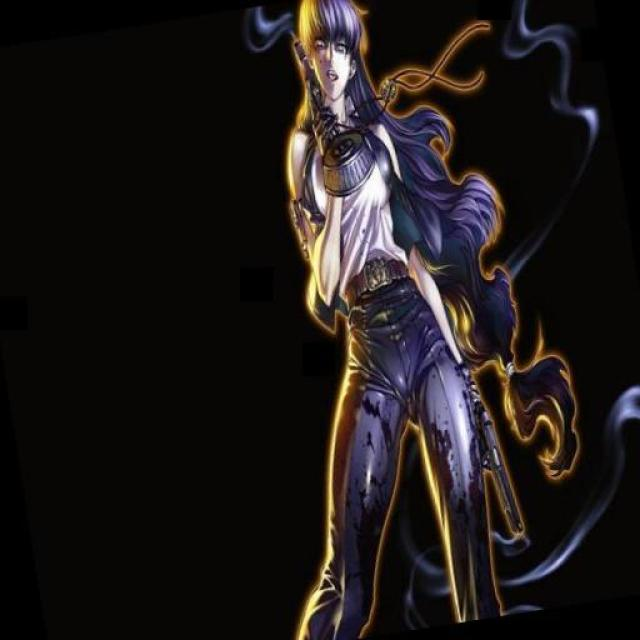gun: (466, 401, 525, 540), (290, 32, 338, 142)
